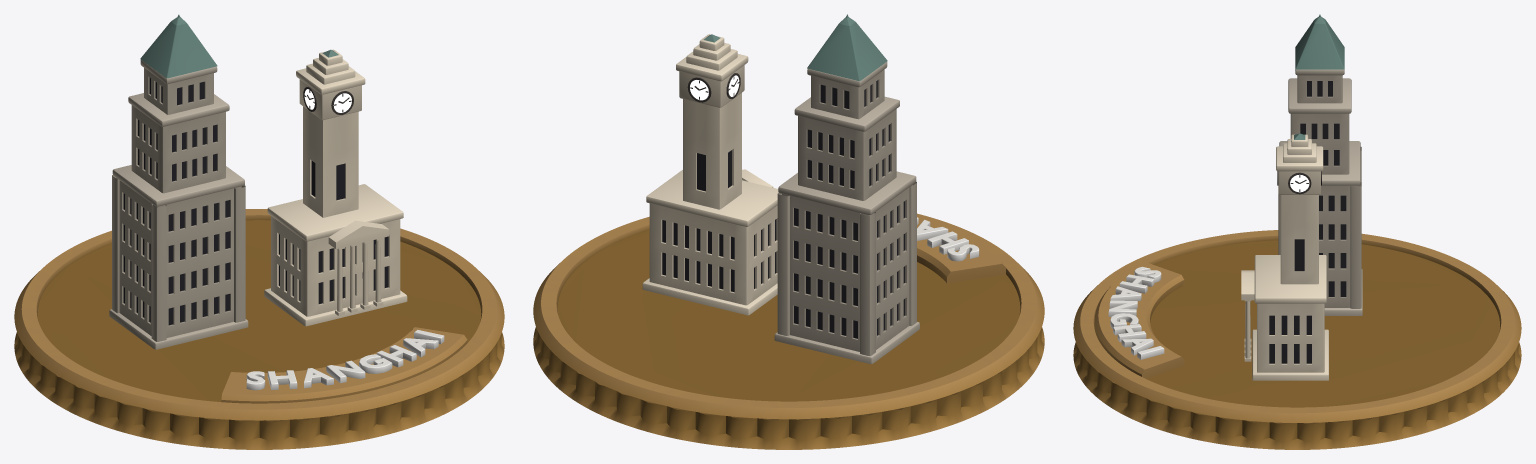
Rendered from city_bundle_shanghai.glb.
The picture shows the model from 3 angles, left to right: view 1: azimuth 30°, elevation 25°; view 2: azimuth 150°, elevation 25°; view 3: azimuth 270°, elevation 25°; orthographic projection. The views are drawn at different scales.
Visible parts, largest first — view 1: Plinth_Body, PeaceHotel_Granite, Customs_Stone, Plinth_Nameplate, Plinth_Text_SHANGHAI, Customs_Portico, PeaceHotel_Roof, Customs_Clocks; view 2: Plinth_Body, PeaceHotel_Granite, Customs_Stone, PeaceHotel_Roof, Plinth_Nameplate, Plinth_Text_SHANGHAI, Customs_Clocks; view 3: Plinth_Body, Customs_Stone, PeaceHotel_Granite, Plinth_Nameplate, Plinth_Text_SHANGHAI, PeaceHotel_Roof, Customs_Portico, Customs_Clocks.
Boxes of the visible parts, left/top/right/bottom form: Plinth_Body: left=14, top=209, right=504, bottom=449; PeaceHotel_Granite: left=109, top=60, right=248, bottom=349; Customs_Stone: left=264, top=49, right=407, bottom=326; Plinth_Nameplate: left=221, top=327, right=467, bottom=403; Plinth_Text_SHANGHAI: left=246, top=329, right=444, bottom=390; Customs_Portico: left=328, top=220, right=389, bottom=315; PeaceHotel_Roof: left=140, top=14, right=217, bottom=78; Customs_Clocks: left=303, top=86, right=353, bottom=114; Plinth_Body: left=533, top=213, right=1044, bottom=449; PeaceHotel_Granite: left=774, top=62, right=919, bottom=363; Customs_Stone: left=642, top=34, right=778, bottom=315; PeaceHotel_Roof: left=807, top=14, right=887, bottom=81; Plinth_Nameplate: left=917, top=218, right=1005, bottom=283; Plinth_Text_SHANGHAI: left=917, top=217, right=979, bottom=261; Customs_Clocks: left=687, top=73, right=740, bottom=102; Plinth_Body: left=1073, top=230, right=1521, bottom=449; Customs_Stone: left=1252, top=134, right=1328, bottom=380; PeaceHotel_Granite: left=1278, top=69, right=1362, bottom=315; Plinth_Nameplate: left=1095, top=262, right=1184, bottom=378; Plinth_Text_SHANGHAI: left=1108, top=266, right=1164, bottom=359; PeaceHotel_Roof: left=1295, top=14, right=1344, bottom=69; Customs_Portico: left=1241, top=270, right=1254, bottom=361; Customs_Clocks: left=1277, top=171, right=1321, bottom=194.
Bounding box in the file's own units: 1.99 × 1.54 × 1.99.
